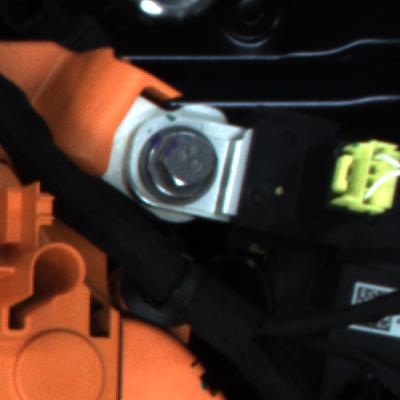nut_b: (139, 120, 223, 205)
